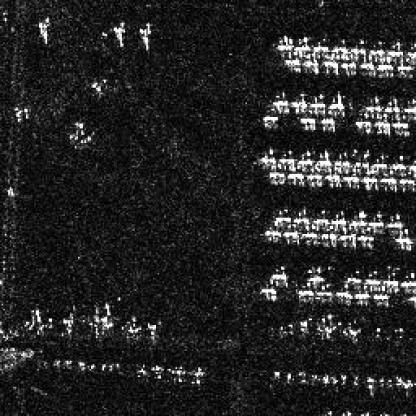airplane: (362, 96, 384, 120), (383, 96, 403, 120), (325, 91, 345, 114), (294, 34, 312, 59), (385, 213, 406, 234), (304, 266, 326, 286), (387, 154, 408, 174), (370, 288, 392, 307), (380, 268, 403, 286), (310, 39, 330, 59), (366, 42, 386, 62), (281, 54, 302, 73), (369, 154, 387, 176), (271, 209, 291, 228), (330, 42, 349, 62), (188, 364, 206, 385), (276, 34, 294, 55), (350, 39, 366, 62), (387, 41, 406, 60), (367, 211, 385, 231), (350, 210, 368, 230), (350, 156, 370, 174), (315, 148, 332, 169), (166, 364, 185, 382), (292, 209, 310, 228), (343, 270, 364, 286), (278, 148, 296, 166), (296, 148, 314, 166), (270, 94, 288, 112), (307, 97, 325, 115), (302, 57, 320, 75), (396, 60, 414, 78), (320, 58, 340, 74), (333, 153, 349, 172), (392, 122, 411, 138), (268, 268, 288, 283), (312, 211, 328, 229), (378, 177, 396, 193), (377, 58, 393, 76), (148, 362, 167, 377), (258, 284, 278, 298), (393, 236, 413, 250), (284, 171, 304, 185), (298, 117, 316, 132), (318, 117, 336, 132), (352, 120, 370, 135), (374, 120, 392, 135), (289, 98, 307, 113), (323, 174, 343, 187), (330, 213, 346, 229), (341, 60, 358, 75), (366, 266, 380, 284), (306, 174, 324, 188), (134, 362, 150, 377), (336, 234, 354, 247), (360, 177, 378, 190), (356, 232, 375, 244), (398, 178, 414, 192), (258, 148, 274, 162), (262, 228, 280, 240), (260, 116, 278, 128), (294, 288, 315, 298), (268, 171, 283, 185), (353, 291, 369, 304), (283, 229, 299, 242), (359, 60, 375, 73), (343, 176, 359, 188), (301, 231, 317, 242), (315, 288, 332, 298), (319, 232, 333, 244), (333, 289, 349, 299), (296, 370, 307, 382), (309, 372, 320, 384), (385, 377, 395, 388), (271, 369, 281, 379), (393, 375, 403, 385), (403, 378, 413, 388), (322, 372, 330, 384), (330, 372, 338, 384), (366, 376, 374, 388), (377, 377, 385, 388), (284, 372, 292, 382), (338, 374, 346, 384), (351, 375, 357, 385), (413, 236, 414, 250)
